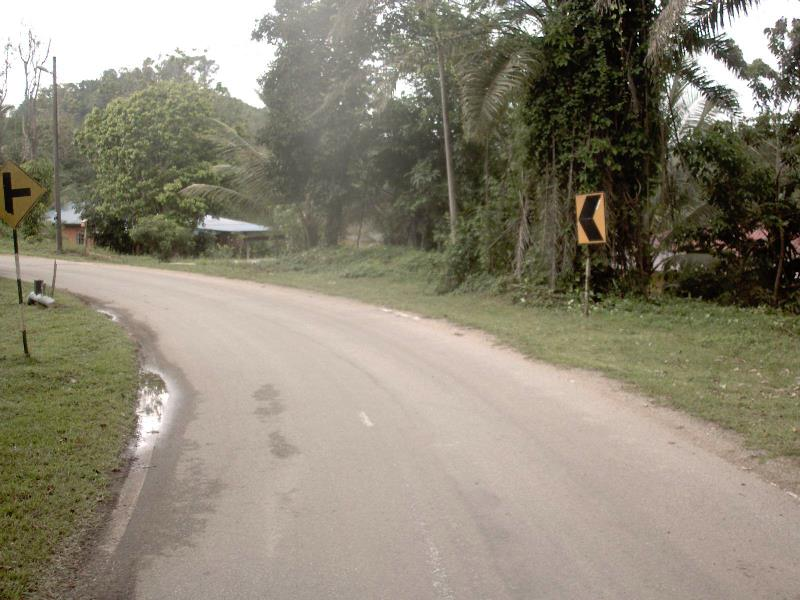traffic_sign: (564, 183, 617, 253)
